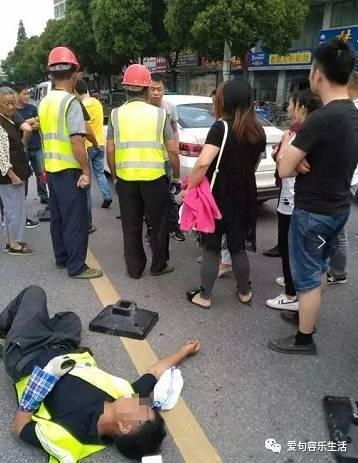Fall-Detected: (0, 279, 196, 458)
